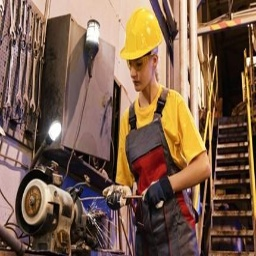helmet: (120, 5, 167, 64)
no-vest: (116, 88, 205, 256)
person: (113, 8, 214, 256)
